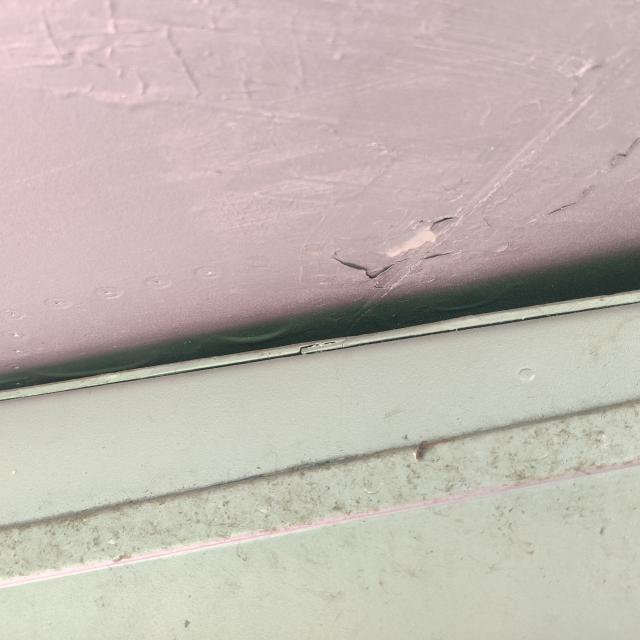Paint-off: (333, 211, 462, 288)
